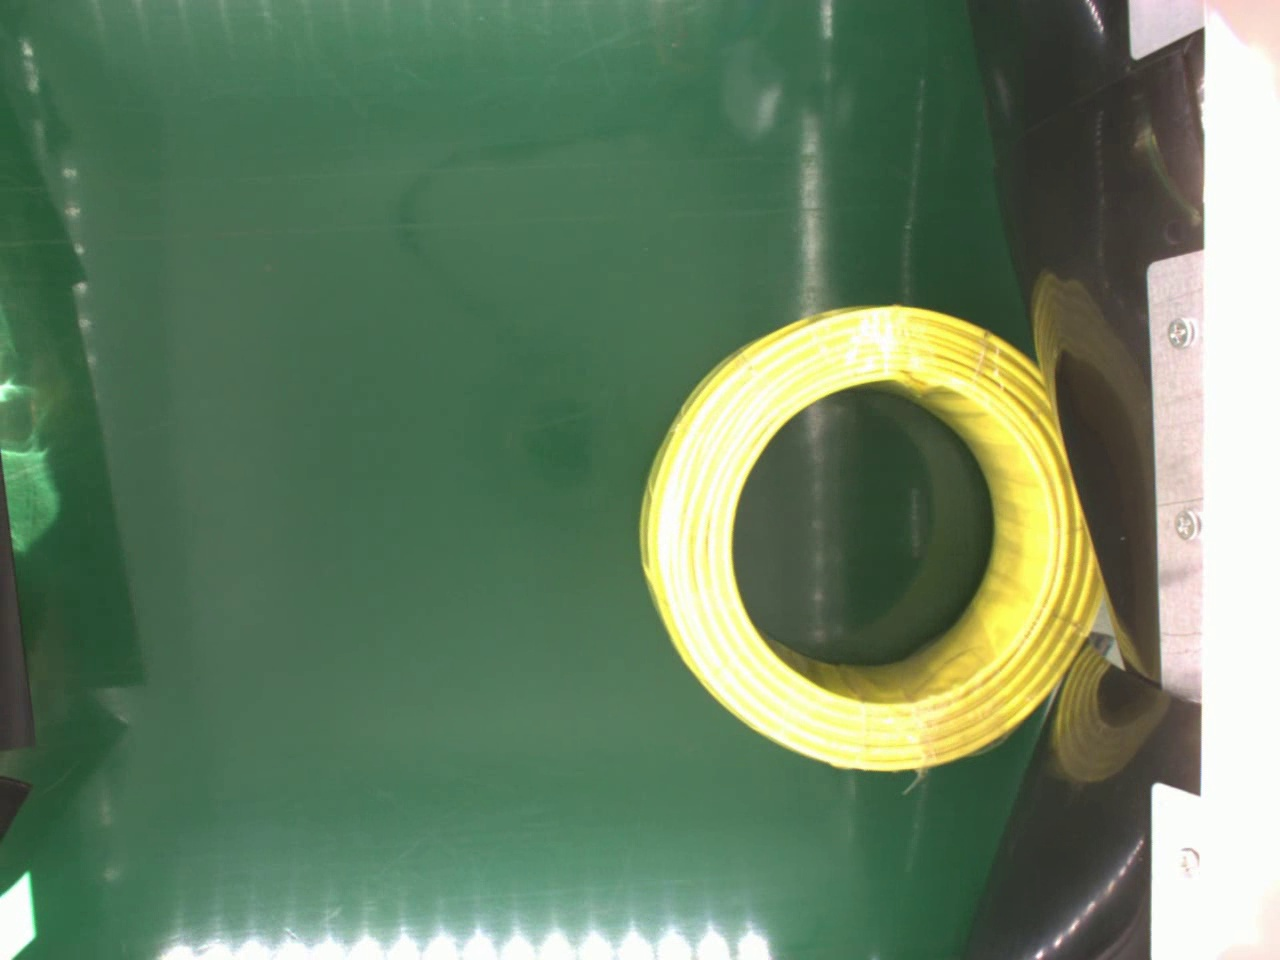yellow: (631, 299, 1105, 771)
